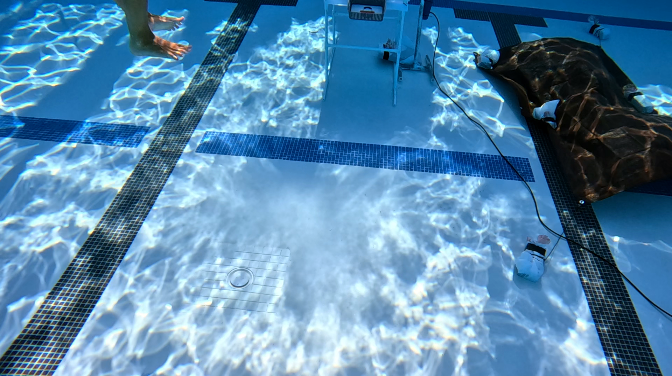sandbag: (478, 29, 671, 207)
